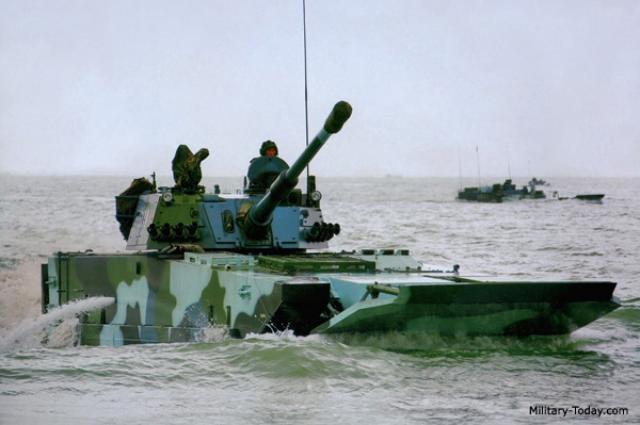other: (246, 139, 290, 182)
tank: (34, 197, 432, 334), (458, 179, 604, 200)
